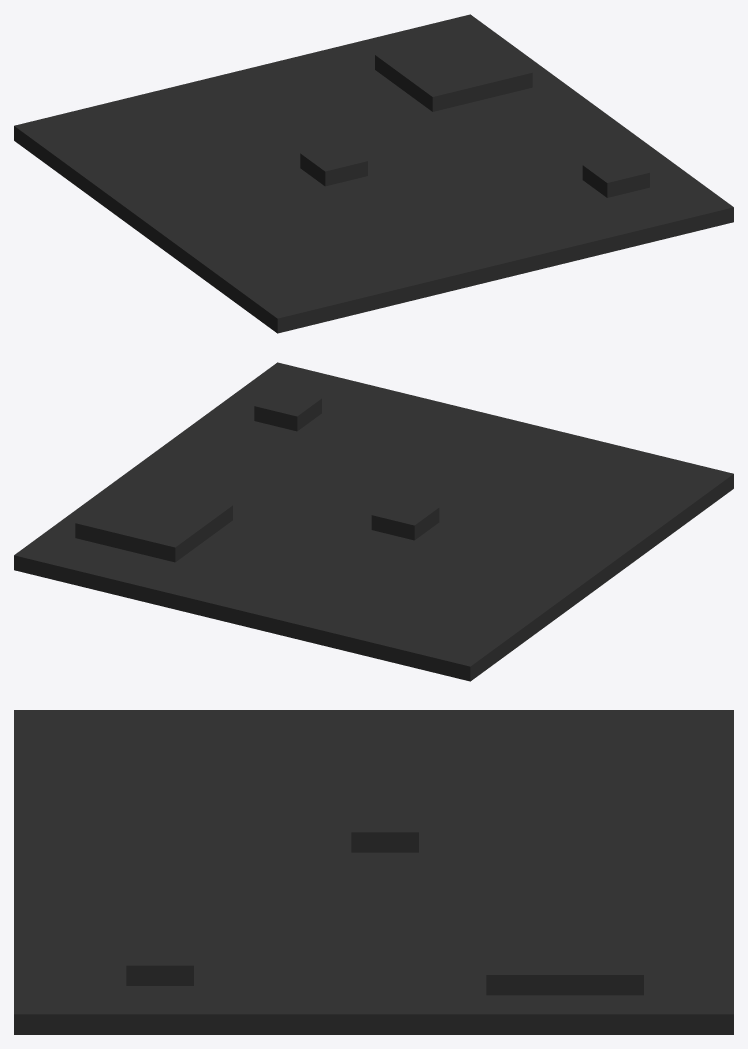
Rendered from StoneFloor.obj.
3 views of the same model, one above another, from view 1: azimuth 30°, elevation 25°; view 2: azimuth 150°, elevation 25°; view 3: azimuth 270°, elevation 25° (orthographic). The views are drawn at different scales.
Bounding box in the file's own units: 3.2 × 0.2 × 3.2.
Materials: 1 (1 with a texture image).
